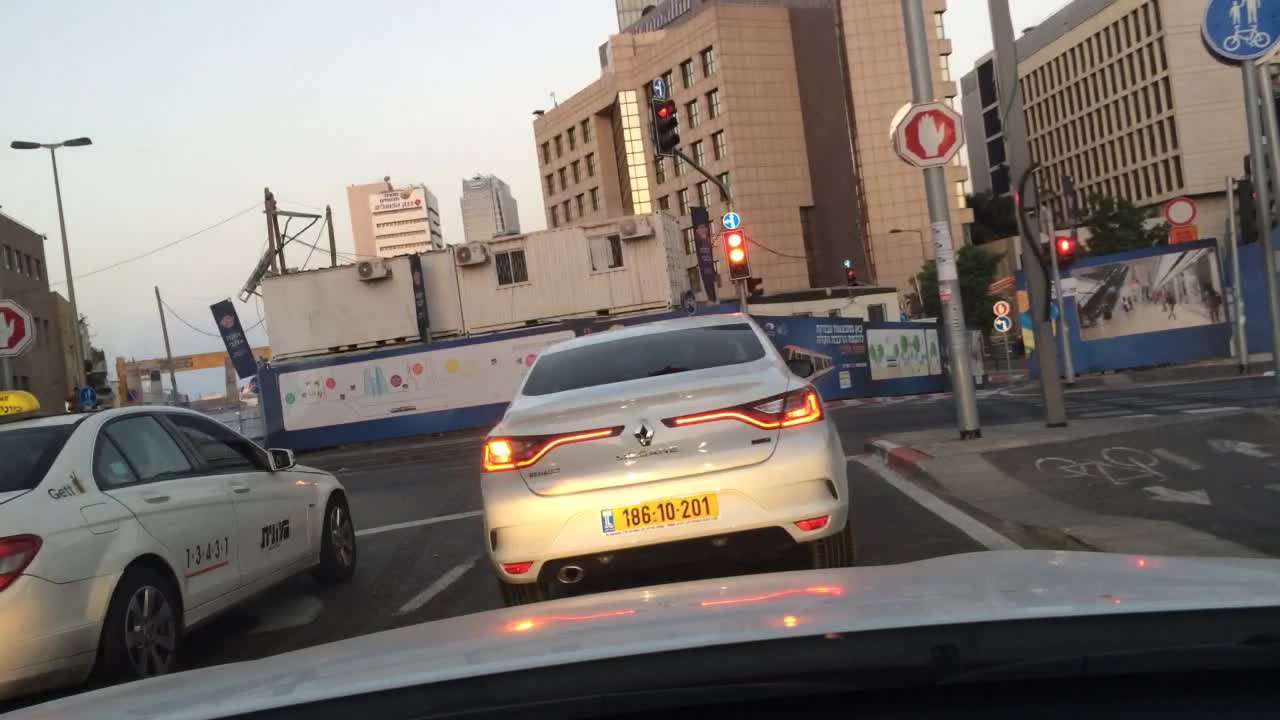car: (0, 385, 357, 702), (478, 309, 851, 607)
traffic light: (650, 95, 681, 159), (1233, 170, 1254, 246), (723, 227, 751, 281), (1040, 234, 1075, 266)
traffic sign: (1197, 1, 1278, 65), (889, 101, 962, 168), (0, 296, 36, 360), (1161, 197, 1198, 232), (992, 315, 1014, 333), (720, 209, 738, 228), (650, 77, 667, 95), (992, 299, 1009, 315)
